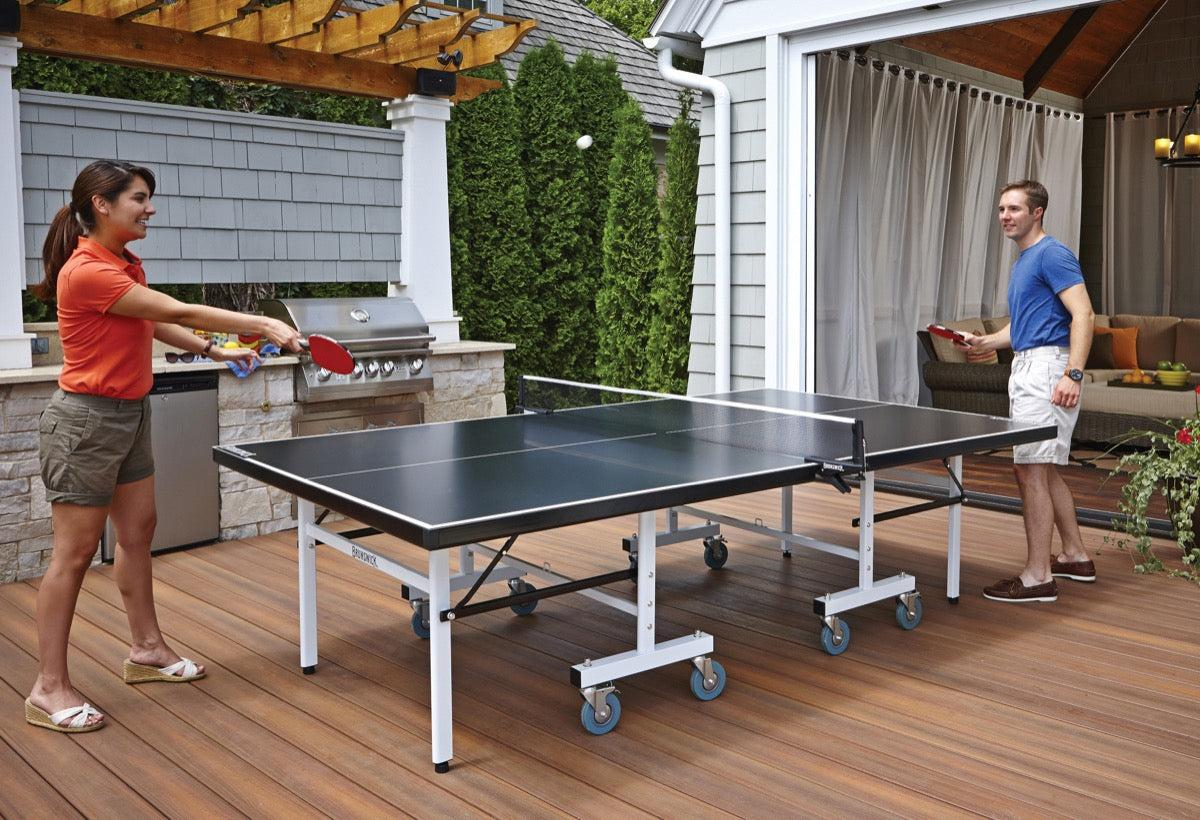ball_pingpong: (576, 133, 593, 148)
